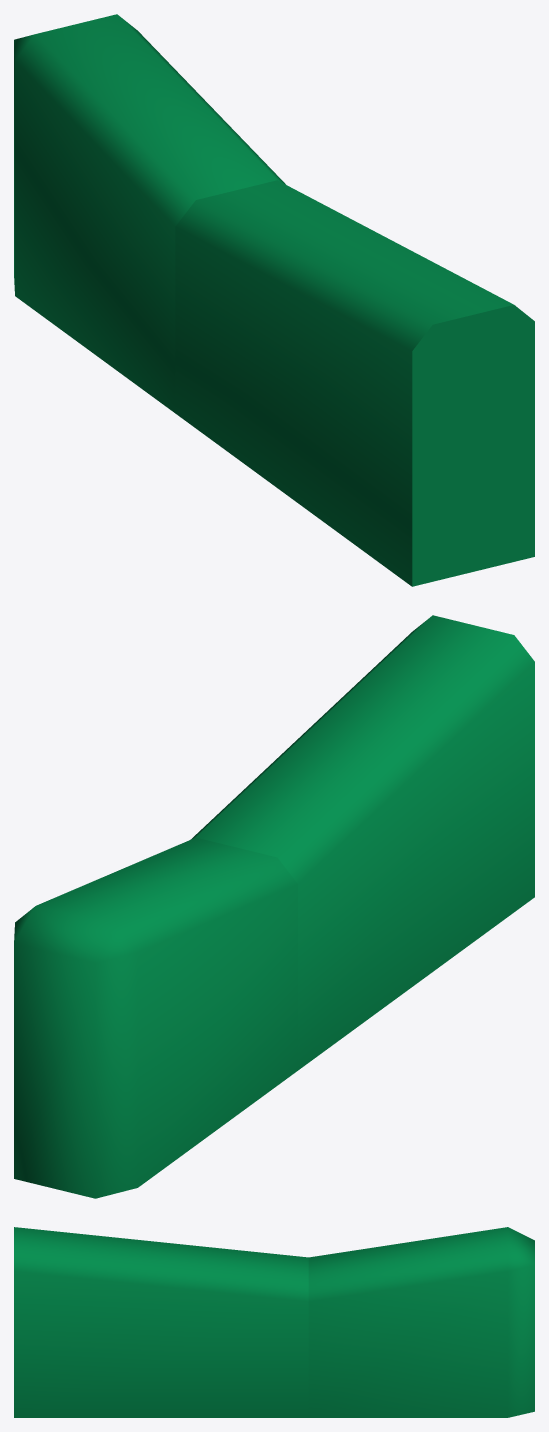
Rendered from HedgeSplit.fbx.
The picture shows the model from 3 angles, top to bottom: view 1: azimuth 30°, elevation 25°; view 2: azimuth 150°, elevation 25°; view 3: azimuth 270°, elevation 25°; orthographic projection. The views are drawn at different scales.
Visible parts, largest first — view 1: Hedge.007, Hedge.006; view 2: Hedge.007, Hedge.006; view 3: Hedge.007, Hedge.006.
Part boxes in pixels (x1,y1,x2,y2): Hedge.007: (175,180,534,586); Hedge.006: (14,14,285,412); Hedge.007: (190,615,534,1070); Hedge.006: (14,837,297,1198); Hedge.007: (14,1227,308,1417); Hedge.006: (308,1227,534,1417).
Size of the model in its own units: 652 by 1355 by 3850.
